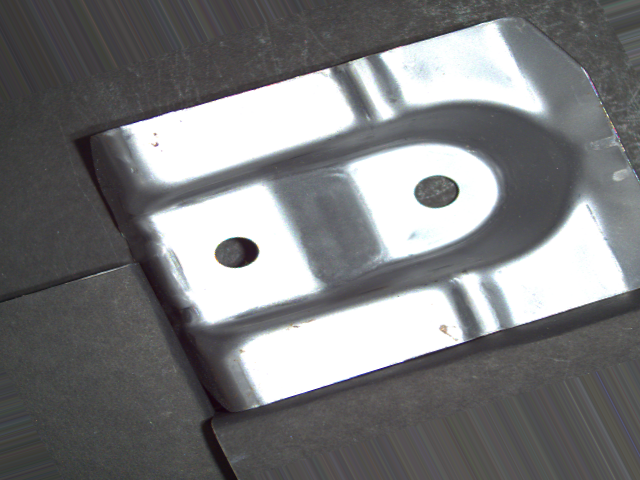defect: (410, 171, 468, 210)
